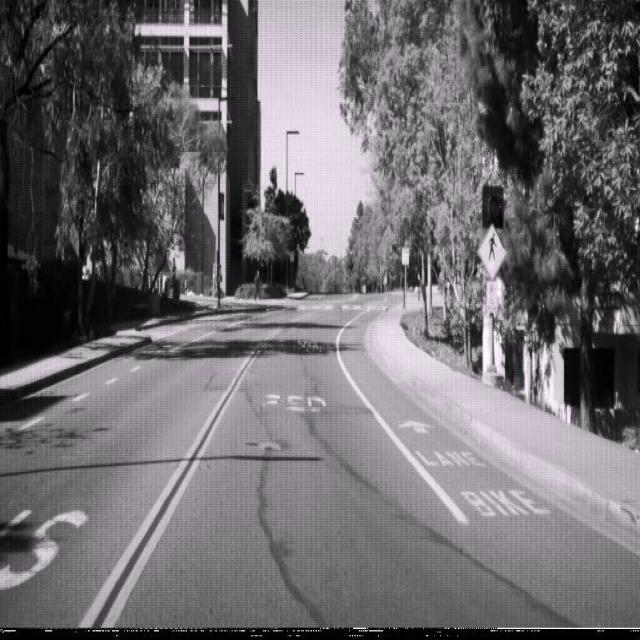pedestrianCrossing: (477, 222, 507, 279)
